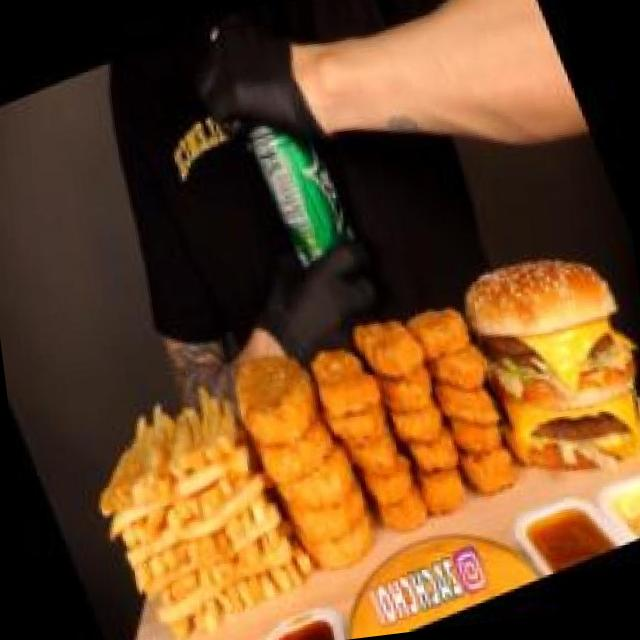Hashbrown: (210, 312, 394, 594)
burger: (426, 177, 640, 509)
french fries: (52, 353, 333, 640)
nugget: (288, 256, 540, 560)
